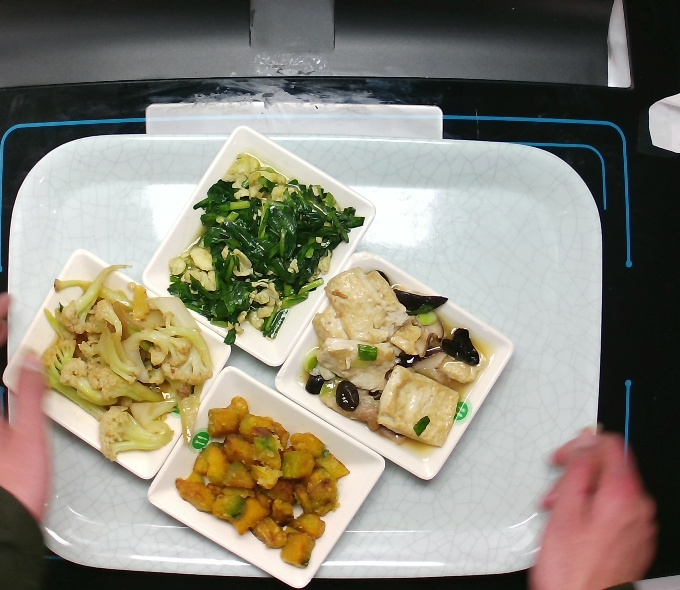wcq-DanHuangNanGua: (159, 393, 358, 572)
wcq-JiaChangDouFu: (301, 265, 487, 461)
wcq-JiuCaiJiDan: (166, 155, 370, 350)
wcq-QiuCai: (38, 259, 215, 459)
